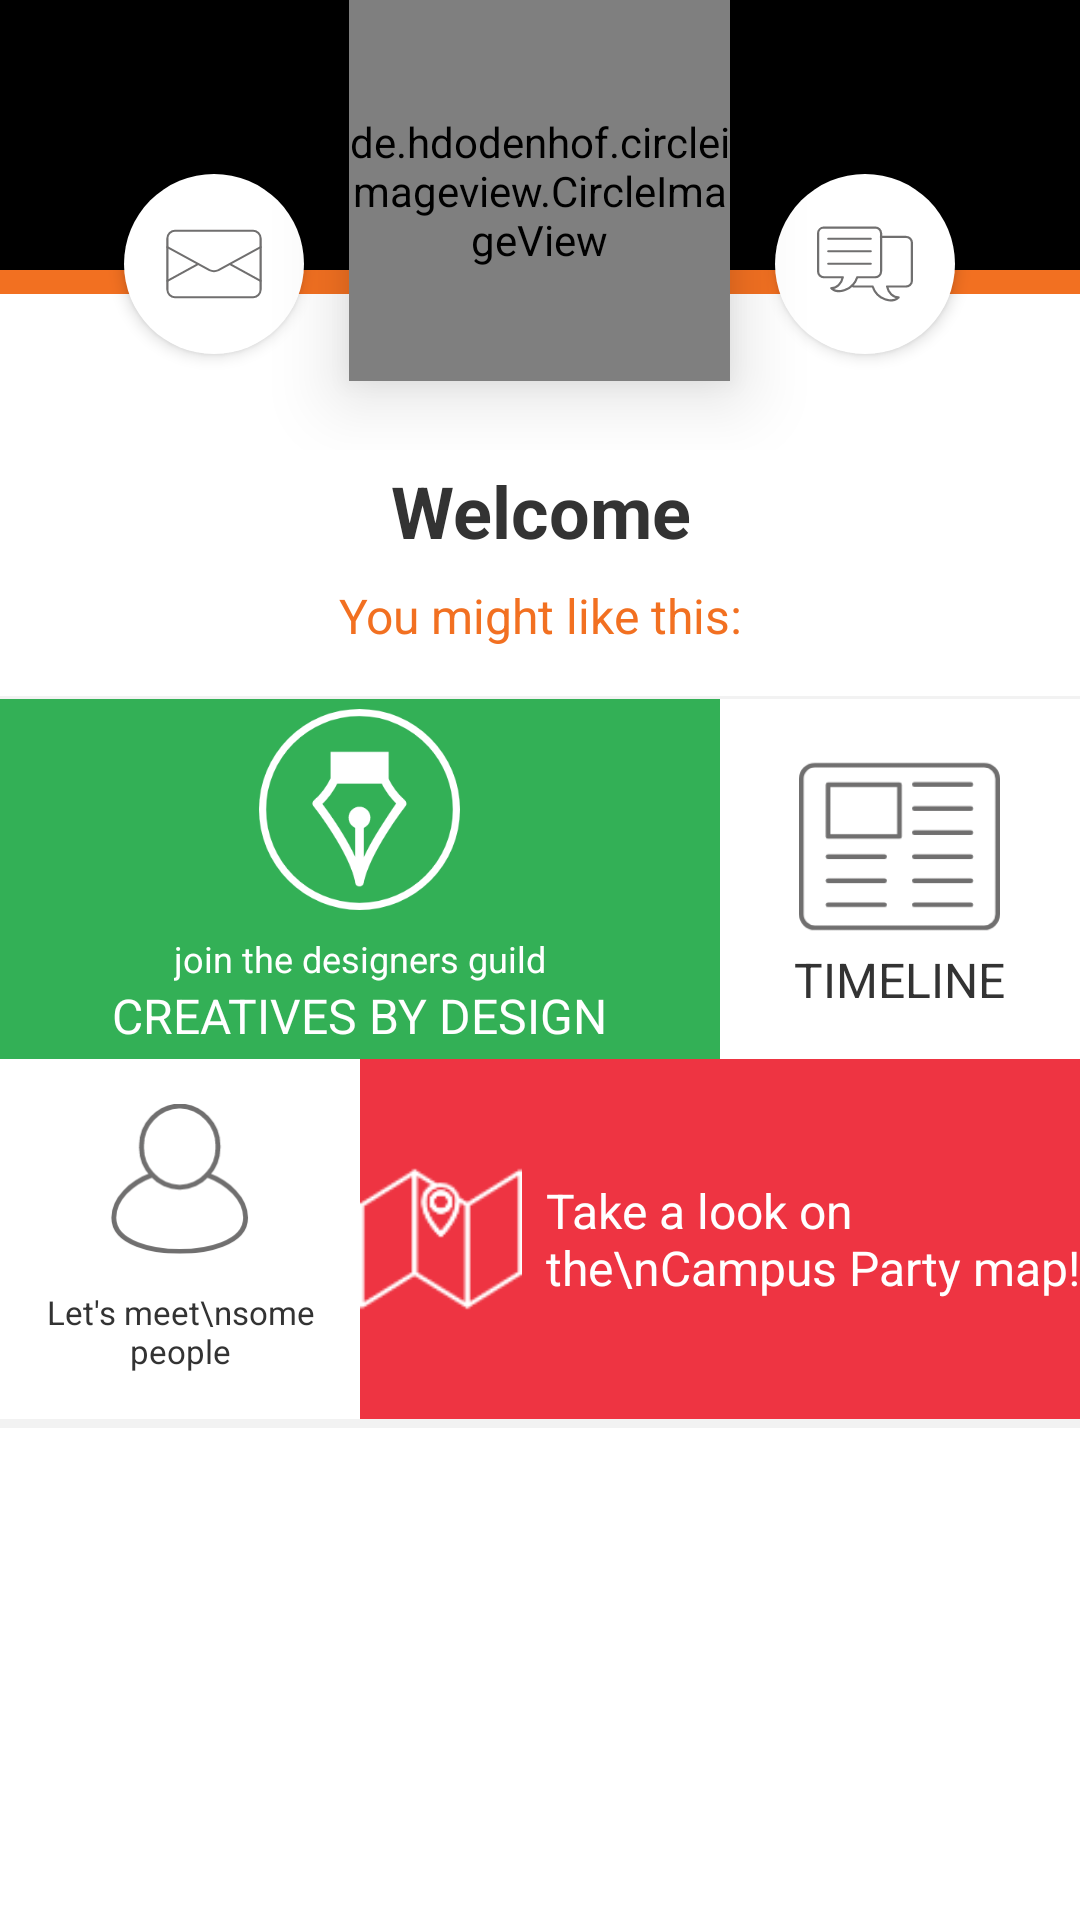

Locate icon controls on the screen. Image size 1080 × 1920, boxes as (x1,y1,x2,y2).
messages: (817,226,913,302)
